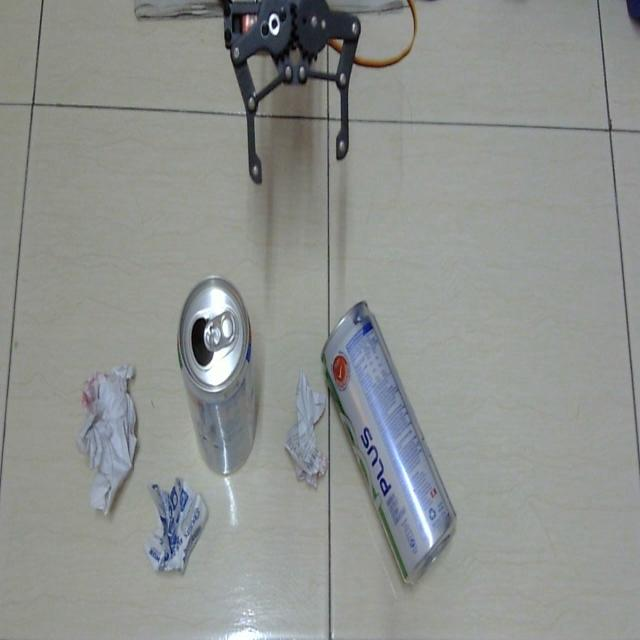Metal-laydown_45left-rotation: (318, 296, 460, 592)
Metal-stand-rotation: (177, 266, 259, 484)
Paperrotation: (76, 354, 145, 523), (148, 474, 212, 589), (280, 375, 326, 481)
